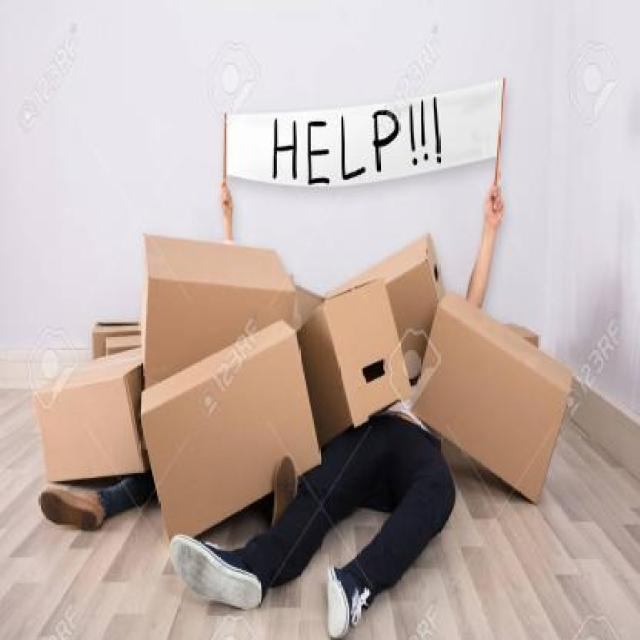box: (129, 322, 331, 568), (416, 285, 575, 517), (135, 216, 303, 390), (31, 351, 146, 501), (309, 276, 406, 446), (365, 223, 447, 357)
